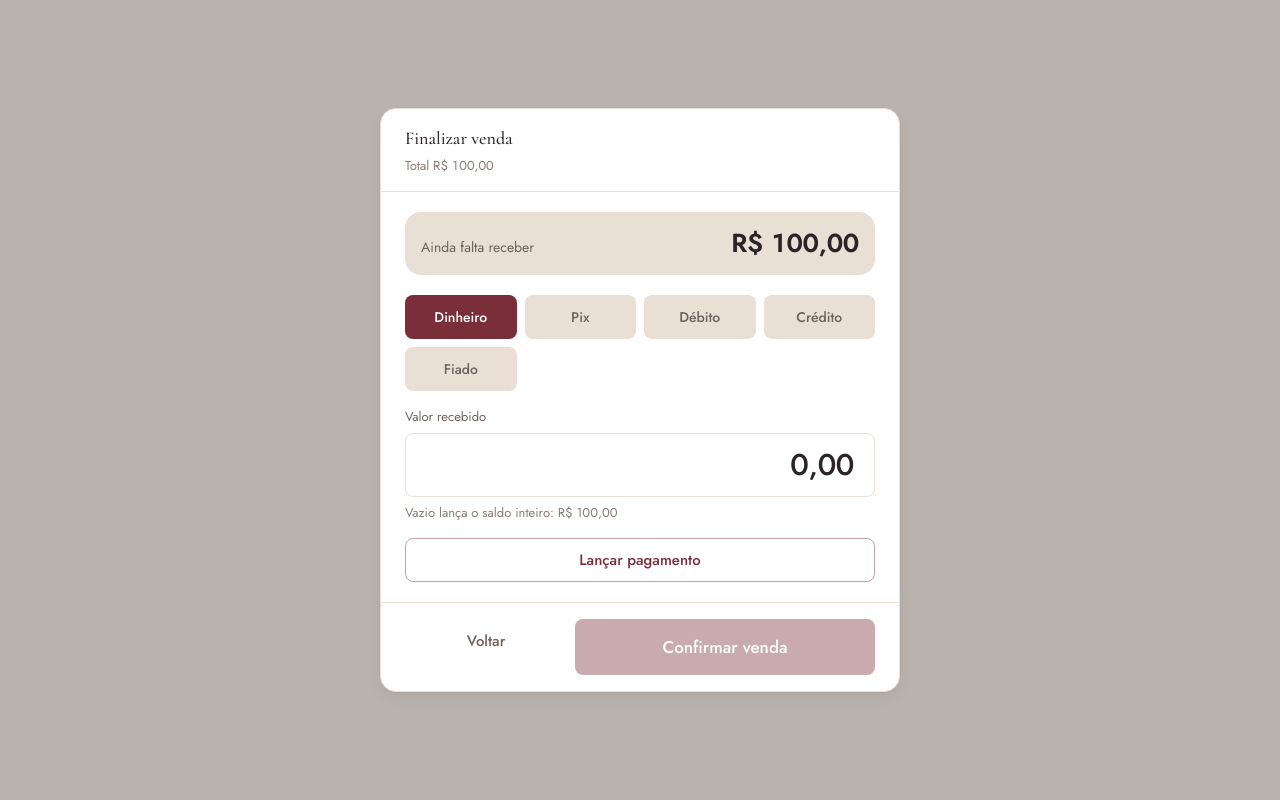
fiado exige cliente identificada › a busca explica o que fazer quando não acha ninguém
Click the button "Fiado": click(461, 369) [405,347,516,391]
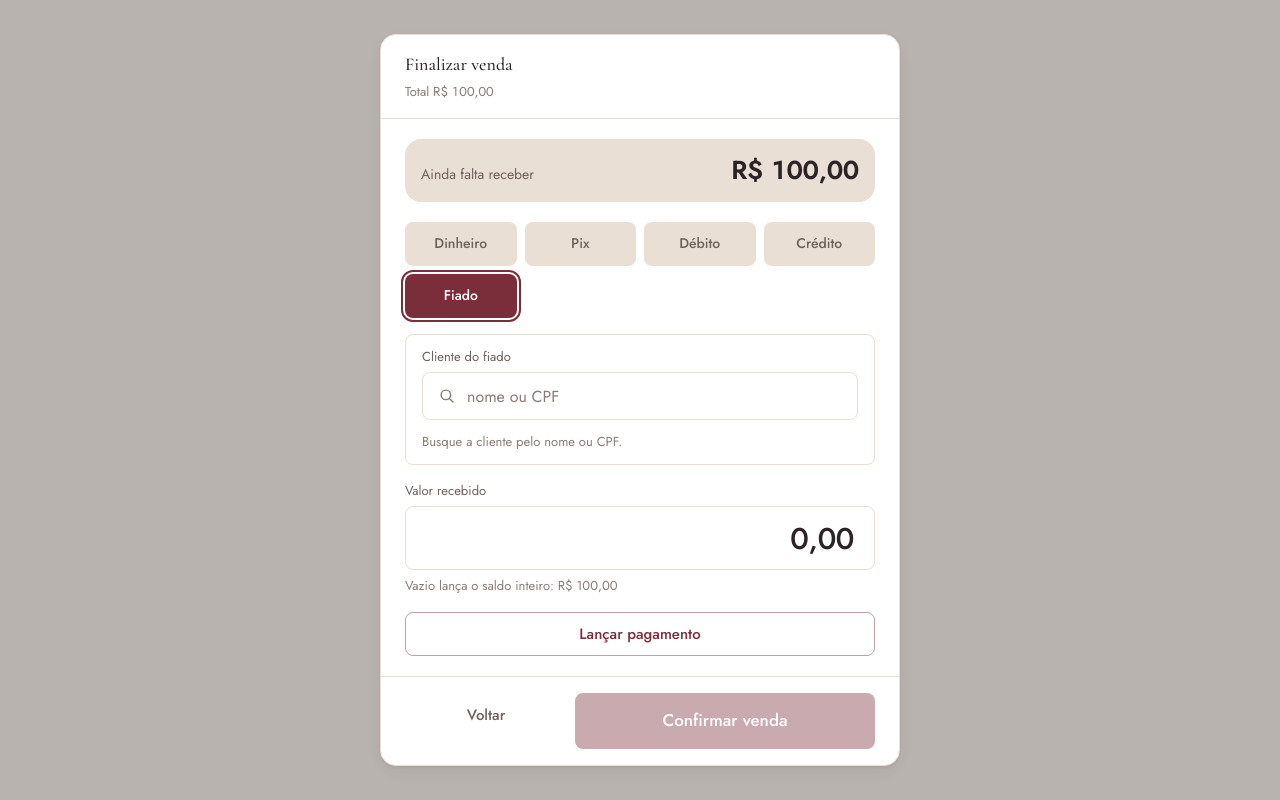
In the field labelled "Cliente do fiado": (640, 396) [422,372,858,420], type "zzz"
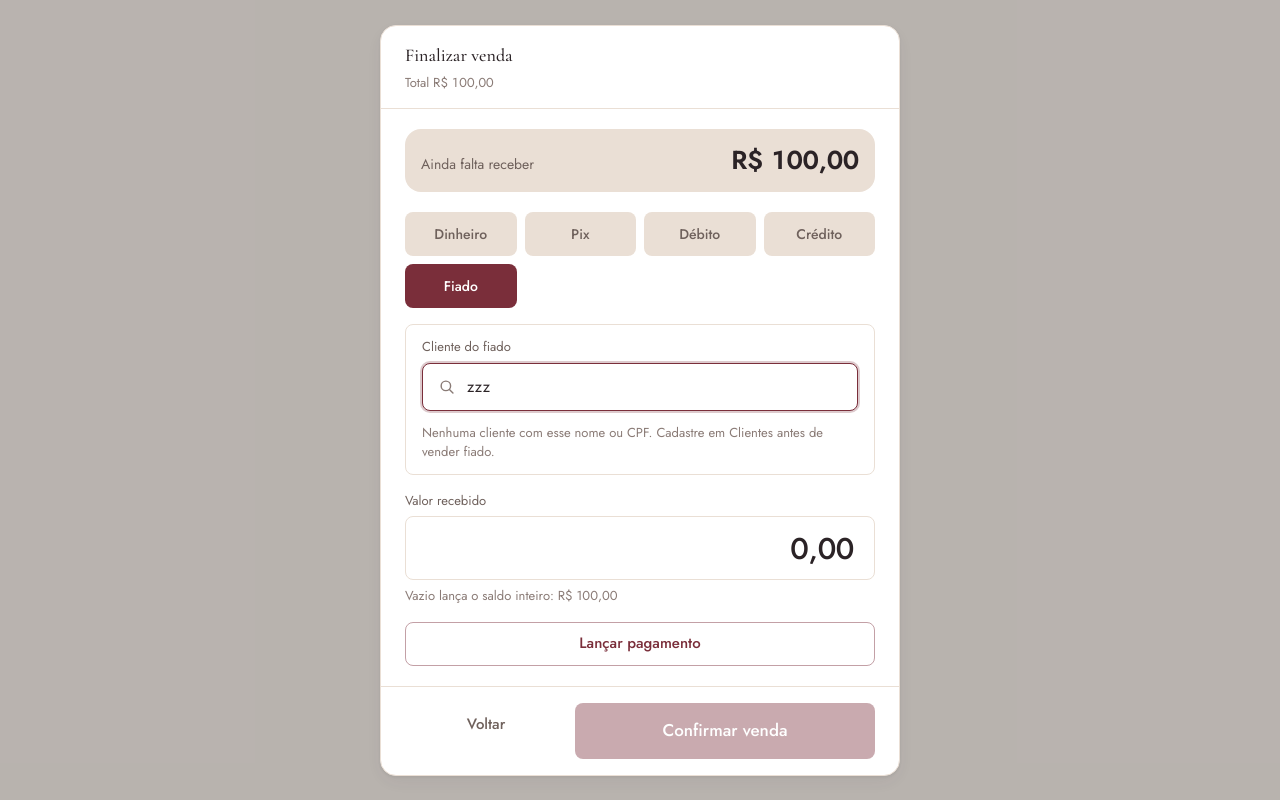
Now the text "Cadastre em Clientes antes de vender fiado" is shown, box [422,422,823,461]
